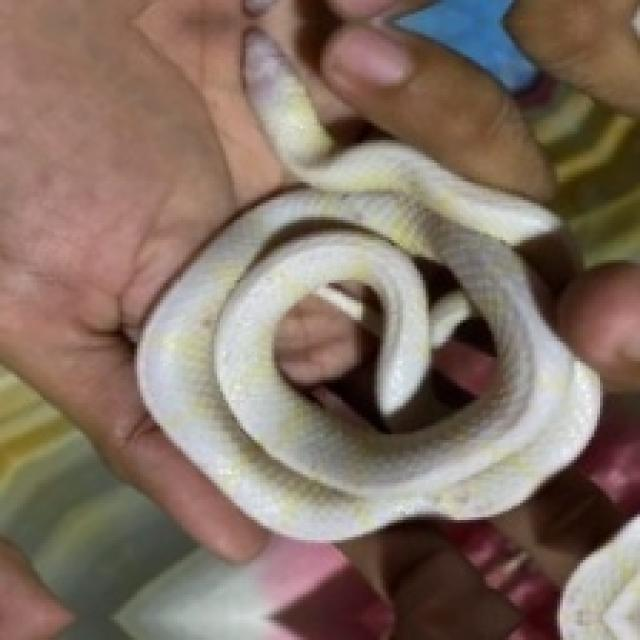gunthers philippine shrub snake: (137, 31, 597, 537), (363, 314, 497, 434), (560, 517, 637, 637), (420, 306, 494, 417)
